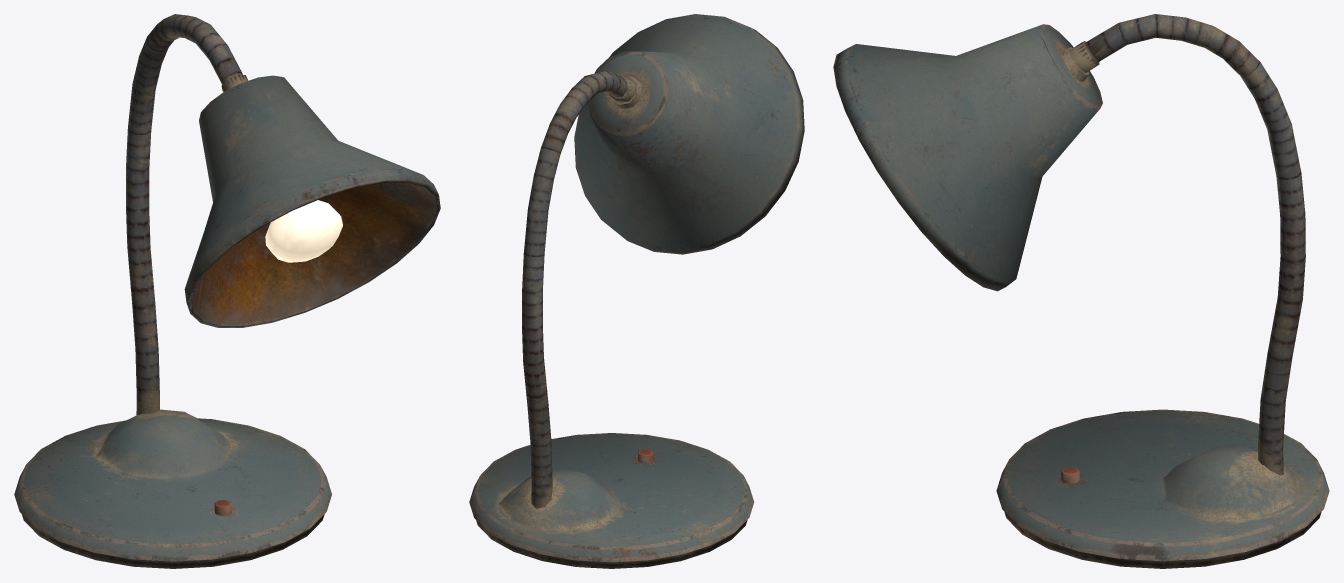
Rendered from old_lamp.glb.
The picture shows the model from 3 angles, left to right: view 1: azimuth 30°, elevation 25°; view 2: azimuth 150°, elevation 25°; view 3: azimuth 270°, elevation 25°; orthographic projection. The views are drawn at different scales.
Visible parts, largest first — view 1: Object_2; view 2: Object_2; view 3: Object_2.
Boxes of the visible parts, x1,y1,x2,y2 form: Object_2: [14, 14, 440, 568]; Object_2: [469, 14, 804, 568]; Object_2: [833, 14, 1329, 568].
Bounding box in the file's own units: 26.44 × 42.53 × 38.29.
1 material, 1 textured.
